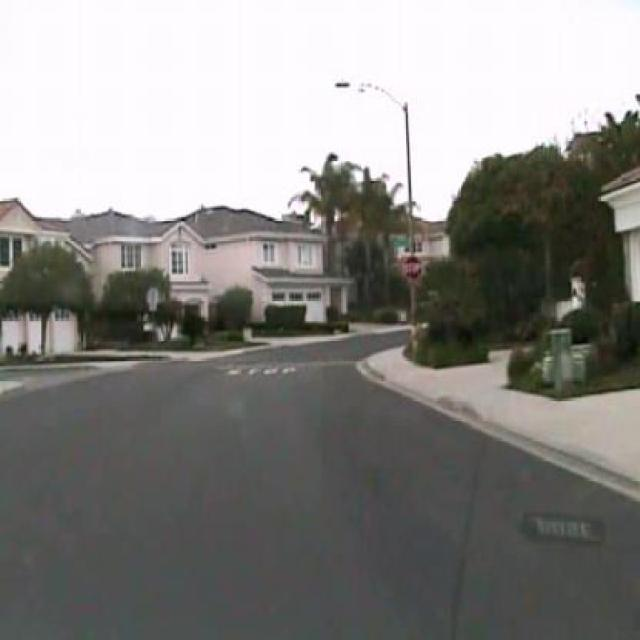stop: (403, 254, 422, 281)
